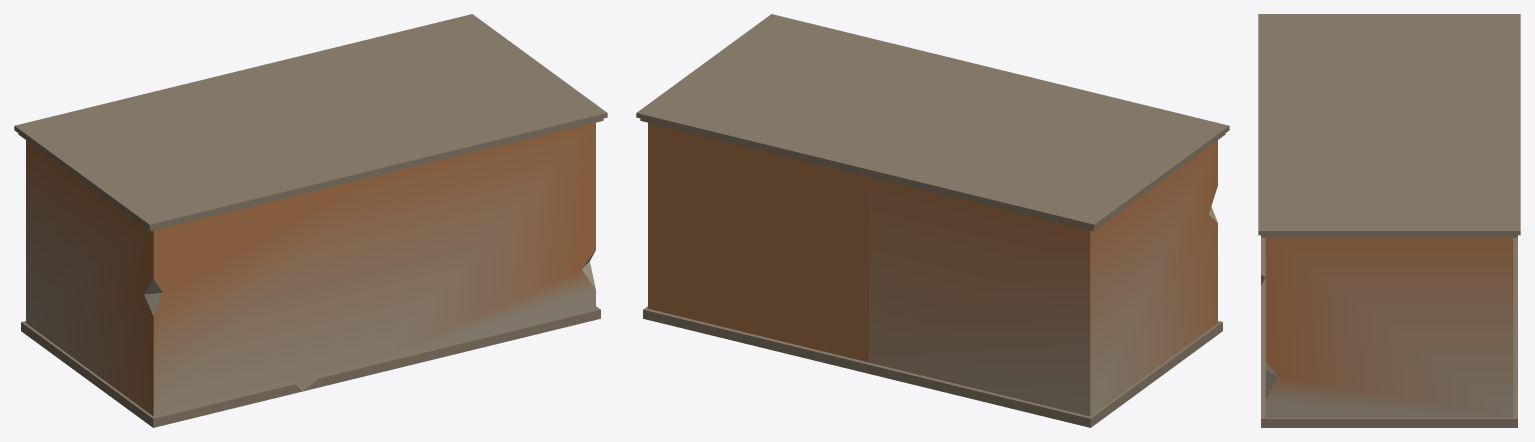
File: SM_Bld_Cuba_Room_Long_01.glb
3 views of the same model, side by side, from view 1: azimuth 30°, elevation 25°; view 2: azimuth 150°, elevation 25°; view 3: azimuth 270°, elevation 25° (orthographic). The views are drawn at different scales.
Parts seen in each view (by area): view 1: SM_Bld_Cuba_Room_Long_01; view 2: SM_Bld_Cuba_Room_Long_01; view 3: SM_Bld_Cuba_Room_Long_01.
Part boxes in pixels (left/top/right/bottom): SM_Bld_Cuba_Room_Long_01: left=14, top=14, right=607, bottom=427; SM_Bld_Cuba_Room_Long_01: left=636, top=14, right=1229, bottom=427; SM_Bld_Cuba_Room_Long_01: left=1258, top=14, right=1520, bottom=427.
Size of the model in its own units: 0.0776 by 0.0333 by 0.0397.
